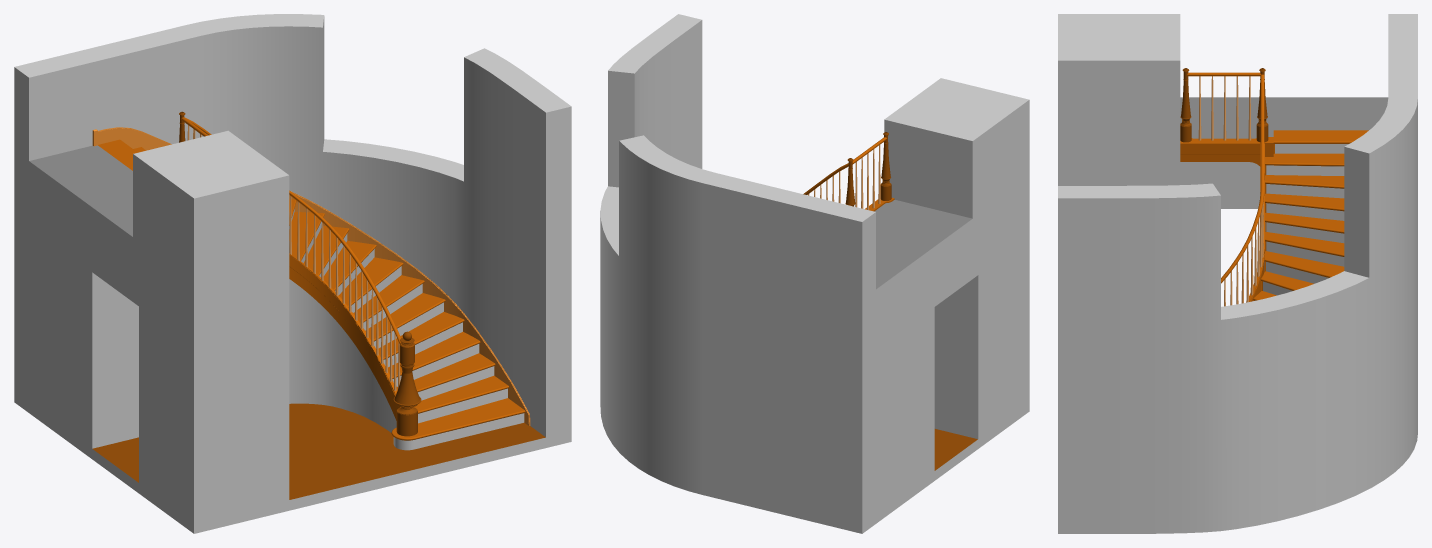
File: 3D Сборка 1.obj
3 renders of one model, left to right at view 1: azimuth 30°, elevation 25°; view 2: azimuth 150°, elevation 25°; view 3: azimuth 270°, elevation 25°, orthographic. The views are drawn at different scales.
Bounding box in the file's own units: 5.6 × 4.75 × 4.62.
